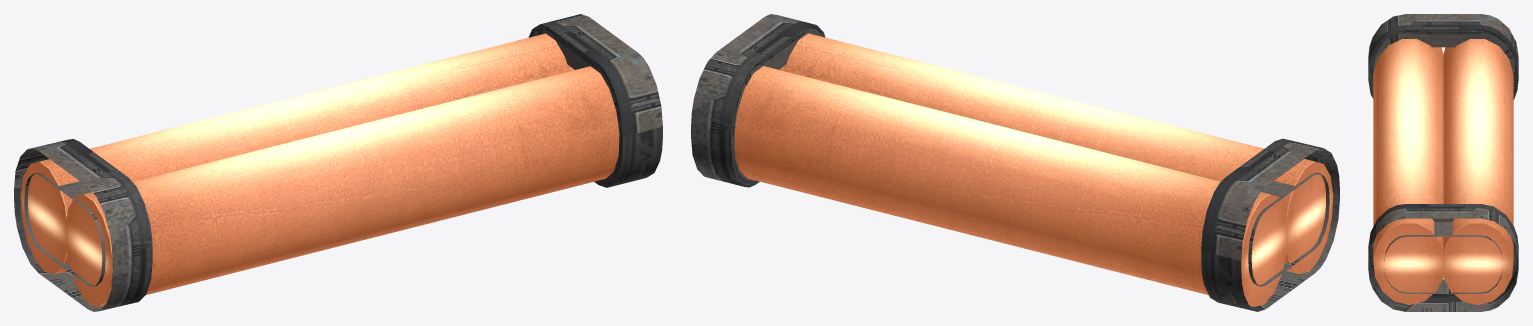
The model's file is heat-pipe-straight-horizontal.glb.
3 renders of one model, left to right at view 1: azimuth 30°, elevation 25°; view 2: azimuth 150°, elevation 25°; view 3: azimuth 270°, elevation 25°, orthographic. The views are drawn at different scales.
Parts seen in each view (by area): view 1: heat-pipe-straight-horizontal; view 2: heat-pipe-straight-horizontal; view 3: heat-pipe-straight-horizontal.
Boxes of the visible parts, <box> form: heat-pipe-straight-horizontal: <box>14,14,662,311</box>; heat-pipe-straight-horizontal: <box>691,14,1339,311</box>; heat-pipe-straight-horizontal: <box>1368,14,1518,311</box>.
Size of the model in its own units: 1 by 0.2129 by 0.3102.
Materials: 2 (2 with a texture image).
